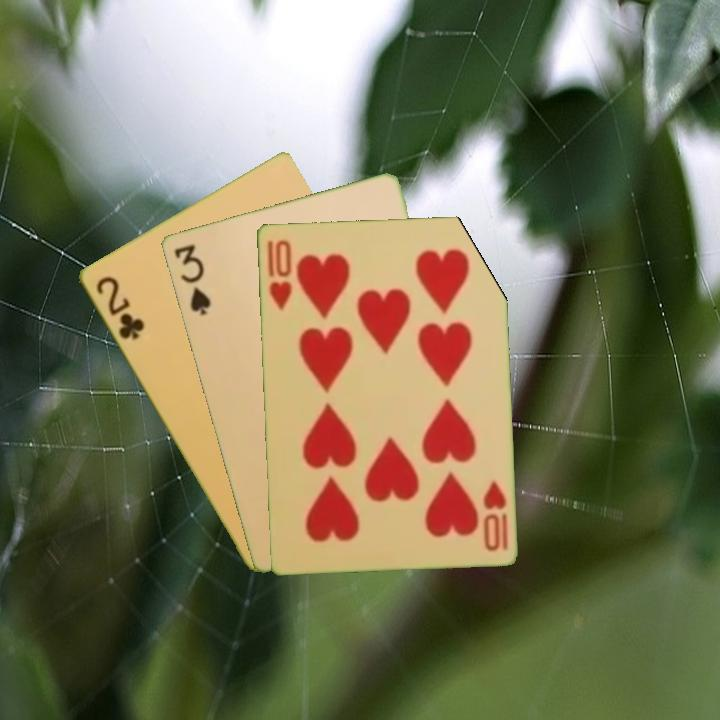10h: (479, 476, 510, 554), (263, 236, 294, 312)
2c: (91, 272, 147, 342)
3s: (170, 240, 213, 318)
